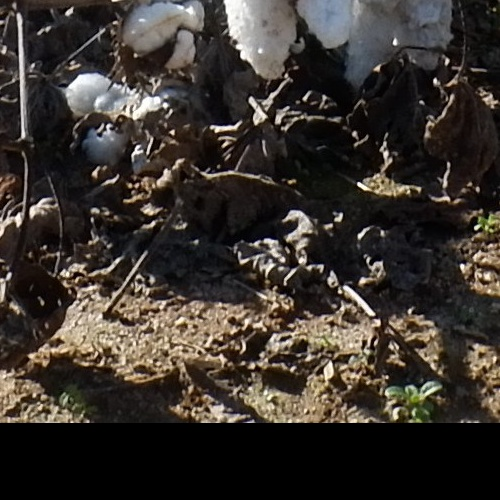immature_boll: (8, 247, 87, 329)
mature_boll: (220, 2, 473, 109), (67, 58, 150, 135)
